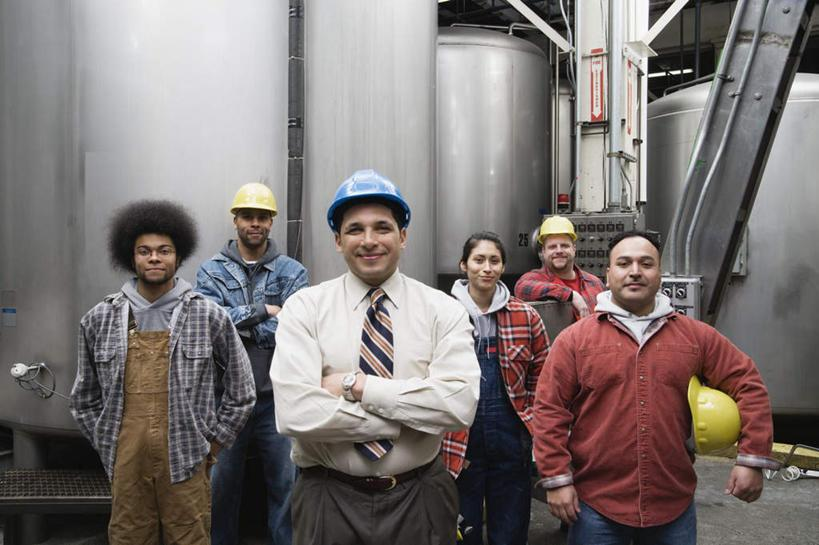helmet: (688, 371, 738, 458), (329, 174, 409, 227), (234, 185, 279, 216), (541, 218, 580, 239)
